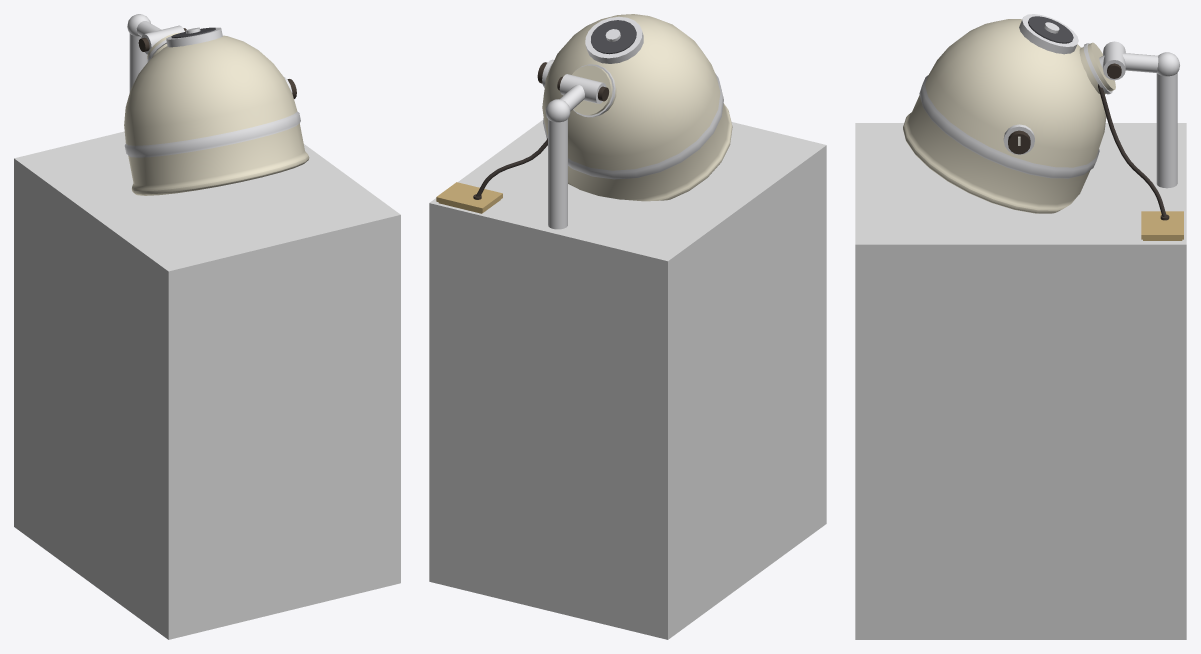
File: hood_dryer.mobile.glb
3 renders of one model, left to right at view 1: azimuth 30°, elevation 25°; view 2: azimuth 150°, elevation 25°; view 3: azimuth 270°, elevation 25°, orthographic. The views are drawn at different scales.
Parts seen in each view (by area): view 1: COL_Chair, HoodDryer; view 2: COL_Chair, HoodDryer; view 3: COL_Chair, HoodDryer.
Part boxes in pixels (x1,y1,x2,y2): COL_Chair: (14, 131, 400, 639); HoodDryer: (124, 14, 309, 195); COL_Chair: (429, 120, 826, 639); HoodDryer: (436, 14, 732, 229); COL_Chair: (855, 123, 1186, 639); HoodDryer: (903, 14, 1183, 240).
Size of the model in its own units: 0.66 by 1.41 by 0.76.
